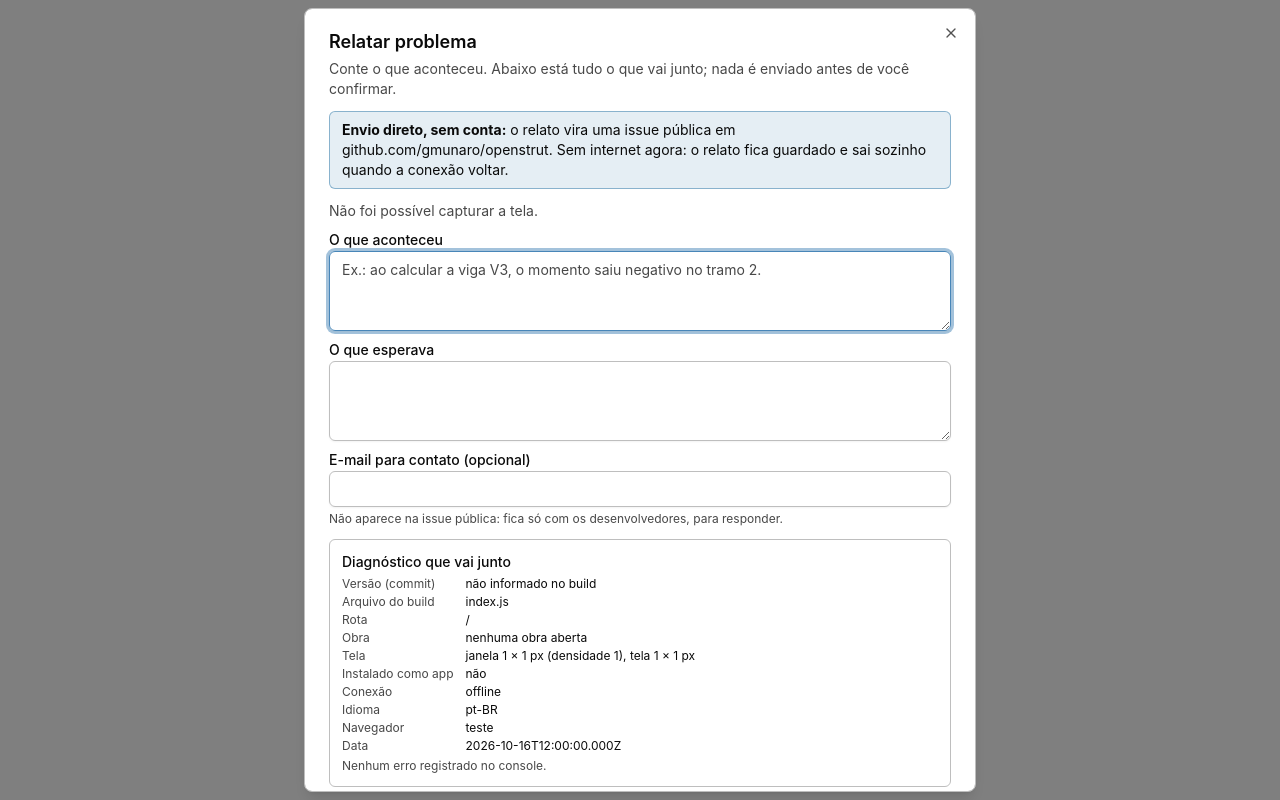
diálogo com relay › sem rede, guarda o relato na fila em vez de enviar
The width and height of the screenshot is (1280, 800).
Expected: the text "Envio direto, sem conta:" is shown, left=342, top=121, right=506, bottom=138
Expected: the text "Não foi possível capturar a tela." is shown, left=329, top=202, right=538, bottom=219
Type "Travou ao salvar" into the text box labelled "O que aconteceu" at (640, 291), box left=329, top=251, right=951, bottom=331
(page scrolled)
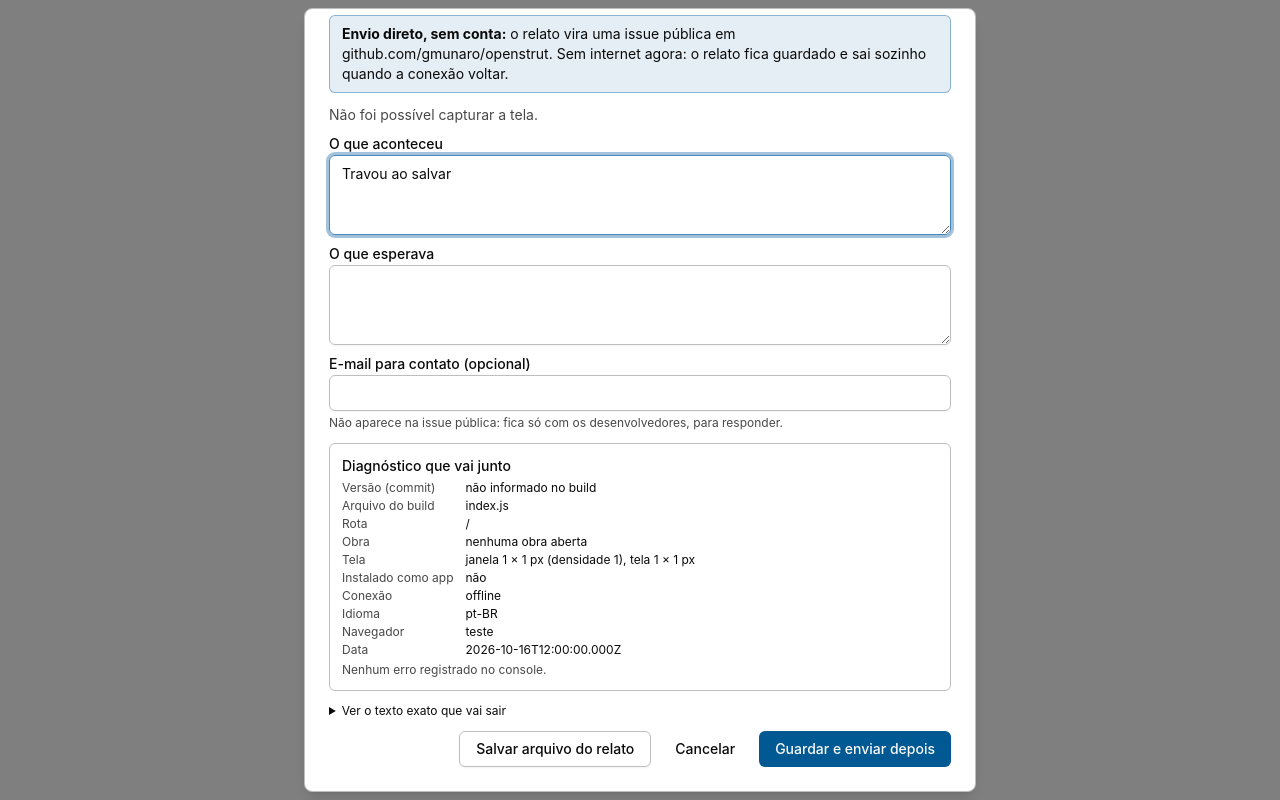
Click the button "Guardar e enviar depois" at (855, 749), box left=759, top=731, right=951, bottom=767
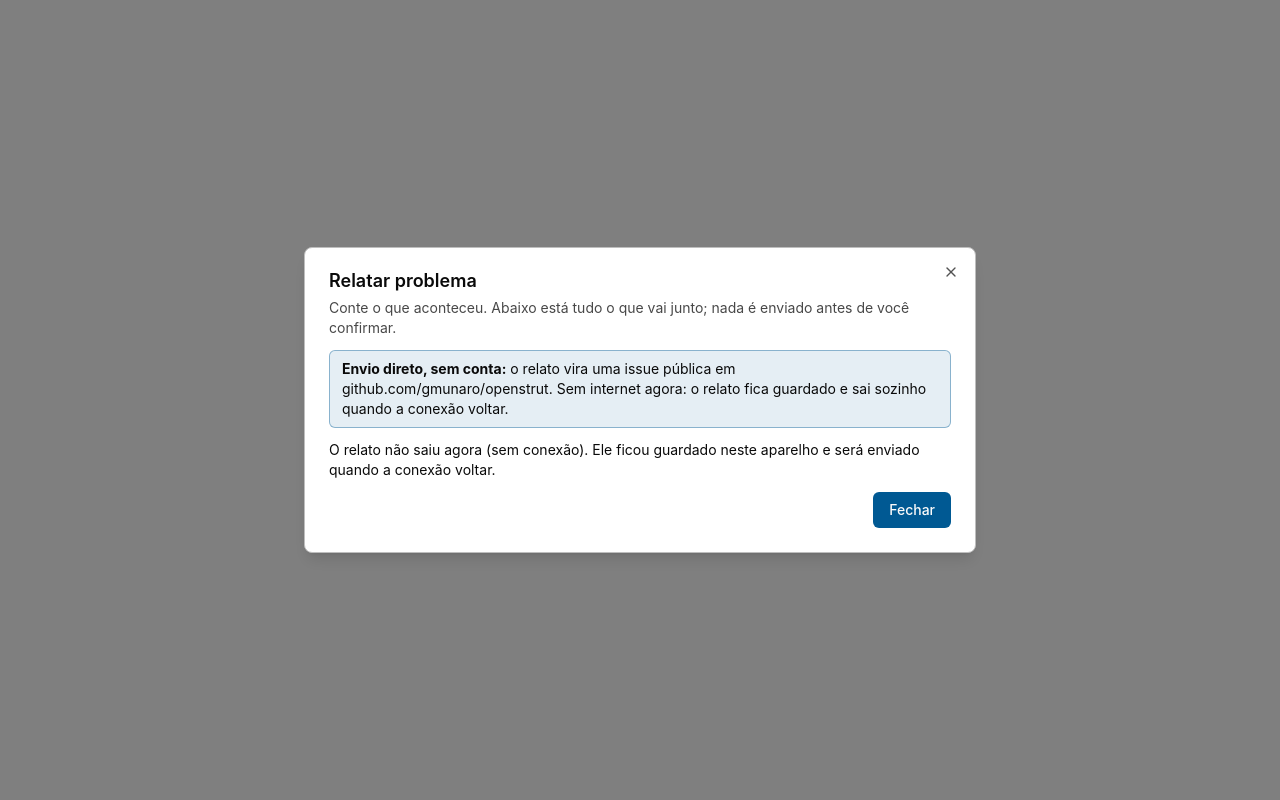
Expected: the text "ficou guardado neste aparelho" is shown, left=329, top=441, right=920, bottom=478
